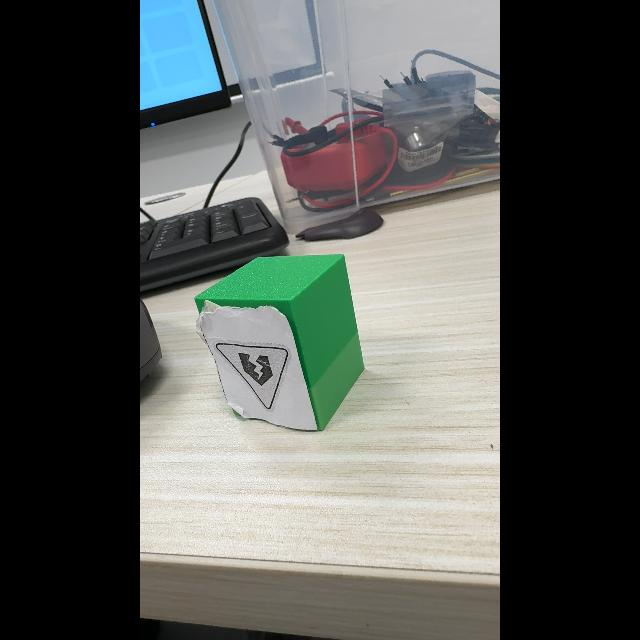Earthquake: (216, 342, 289, 410)
